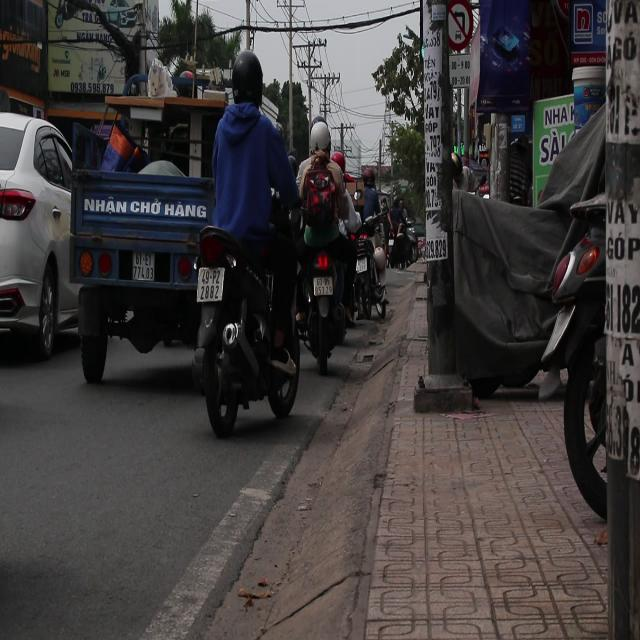car: (1, 104, 84, 366)
motorbike: (192, 212, 304, 434), (293, 169, 361, 375), (351, 220, 390, 321)
